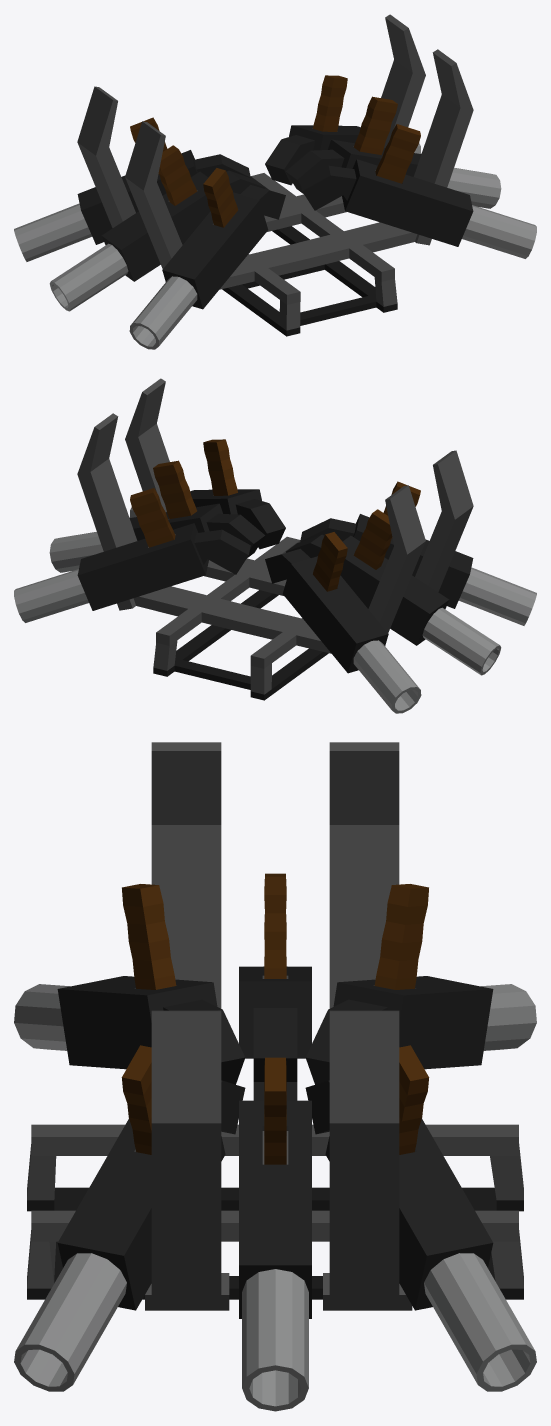
File: Shotgun.fbx
3 views of the same model, one above another, from view 1: azimuth 30°, elevation 25°; view 2: azimuth 150°, elevation 25°; view 3: azimuth 270°, elevation 25° (orthographic). The views are drawn at different scales.
Visible parts, largest first — view 1: Shotgun; view 2: Shotgun; view 3: Shotgun.
Boxes of the visible parts, left/top/right/bottom form: Shotgun: left=14, top=14, right=536, bottom=349; Shotgun: left=14, top=378, right=536, bottom=713; Shotgun: left=14, top=742, right=536, bottom=1411.
Bounding box in the file's own units: 3.07 × 1.33 × 1.69.
